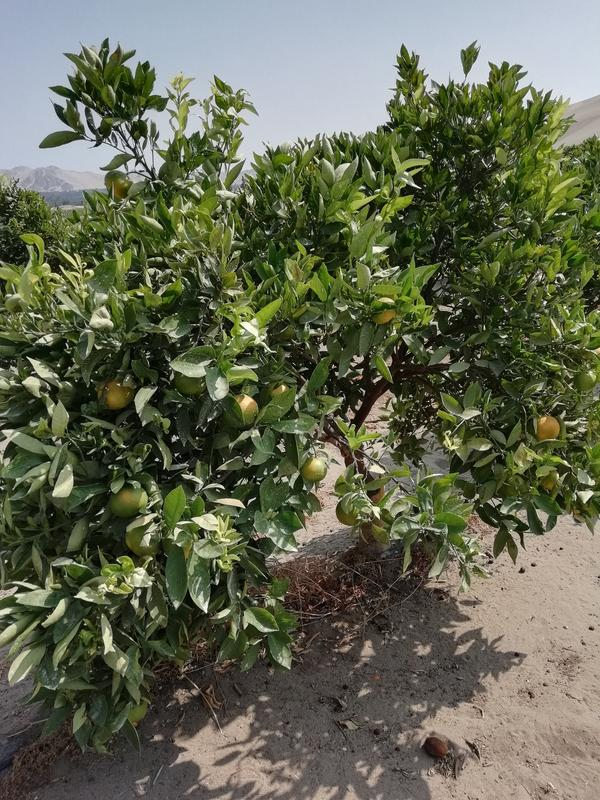mandarina naranja: (538, 415, 561, 439)
mandarina verde: (109, 487, 150, 517), (301, 456, 327, 483), (105, 171, 131, 198), (237, 392, 258, 424)
